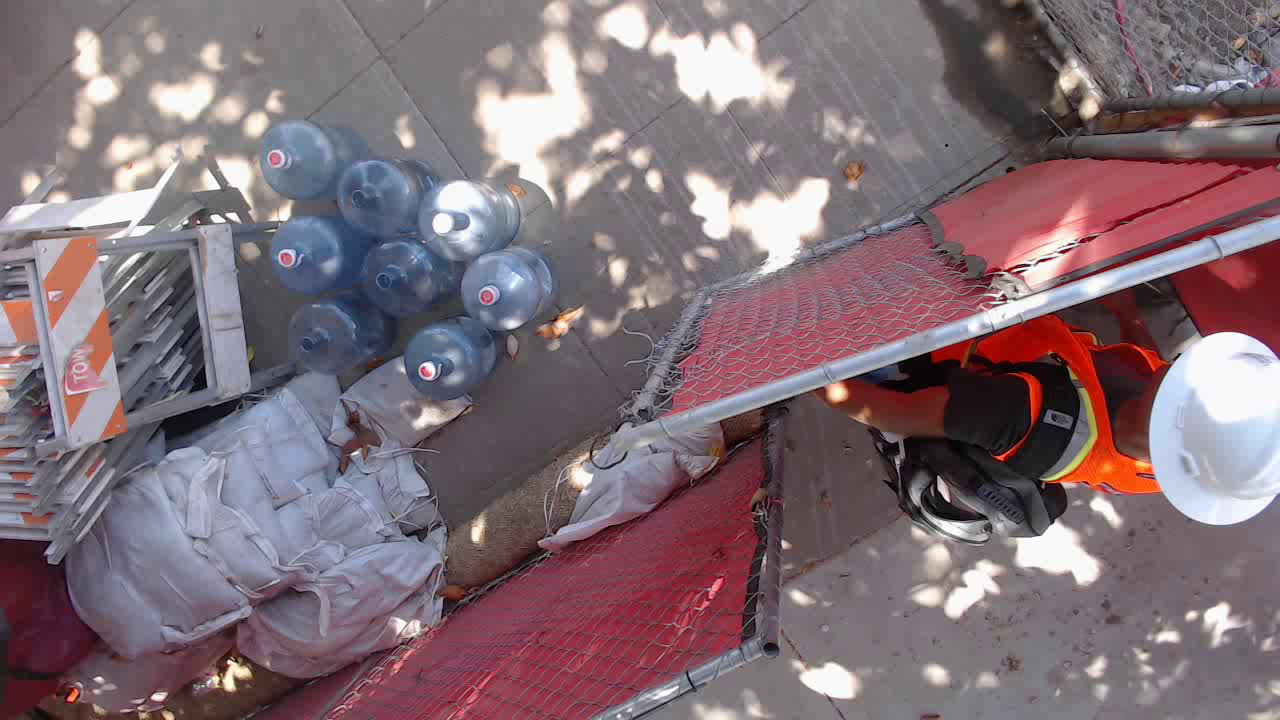hardhat: (1145, 330, 1280, 533)
safetyvest: (895, 310, 1164, 498)
